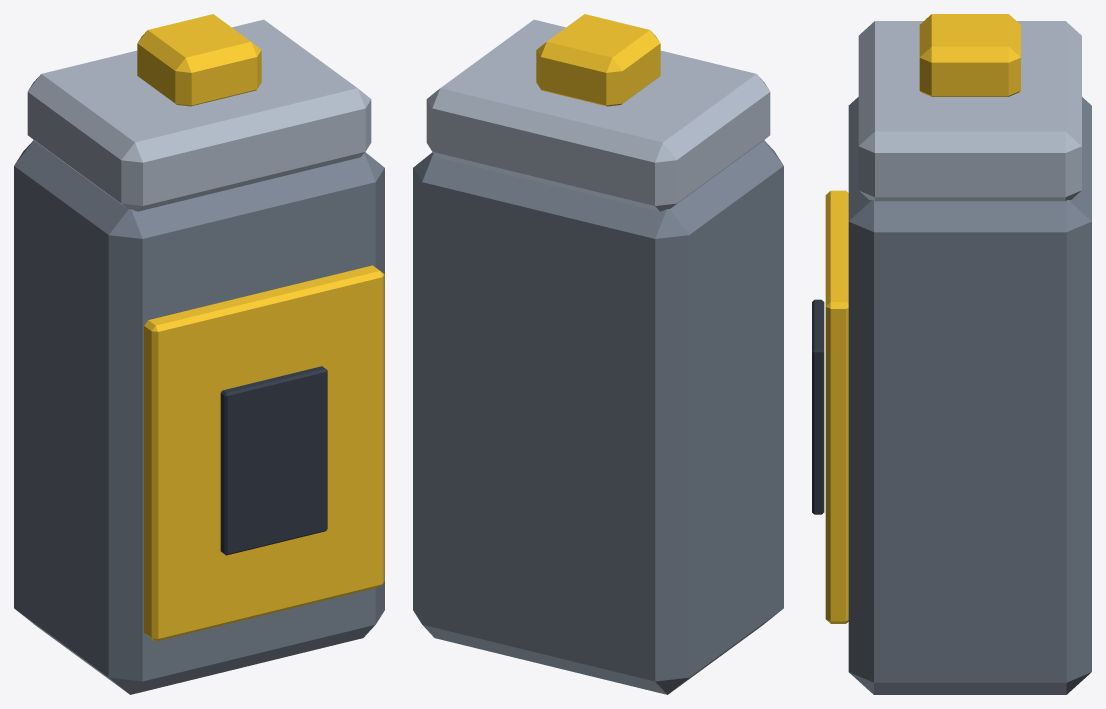
File: Throwable_Incendiary_v001.fbx
3 renders of one model, left to right at view 1: azimuth 30°, elevation 25°; view 2: azimuth 150°, elevation 25°; view 3: azimuth 270°, elevation 25°, orthographic.
Parts seen in each view (by area): view 1: Throwable_Incendiary__RECEIVER_MESH; view 2: Throwable_Incendiary__RECEIVER_MESH; view 3: Throwable_Incendiary__RECEIVER_MESH.
Boxes of the visible parts, box(x1,y1,x2,y2) form: Throwable_Incendiary__RECEIVER_MESH: box(14, 14, 384, 694); Throwable_Incendiary__RECEIVER_MESH: box(413, 14, 783, 694); Throwable_Incendiary__RECEIVER_MESH: box(812, 14, 1091, 694).
Bounding box in the file's own units: 0.32 × 0.66 × 0.276.
